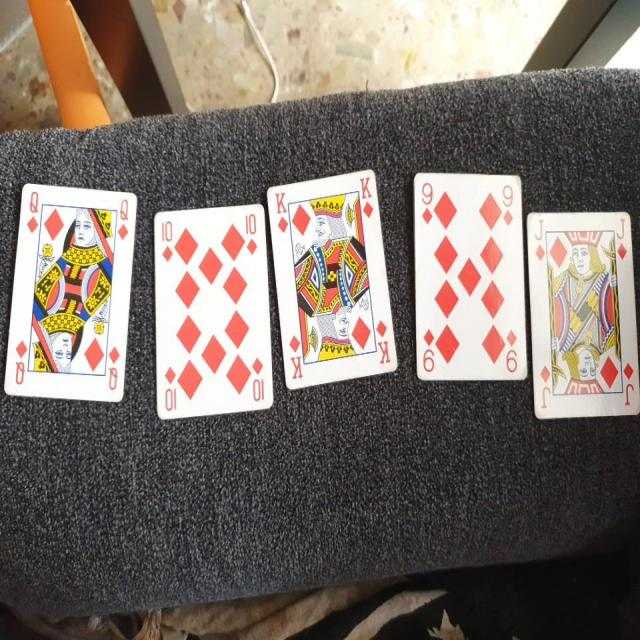10 Diamonds: (154, 202, 276, 421)
9 Diamonds: (411, 173, 526, 383)
J Diamonds: (524, 207, 640, 424)
K Diamonds: (266, 169, 401, 392)
Q Diamonds: (1, 180, 139, 402)
